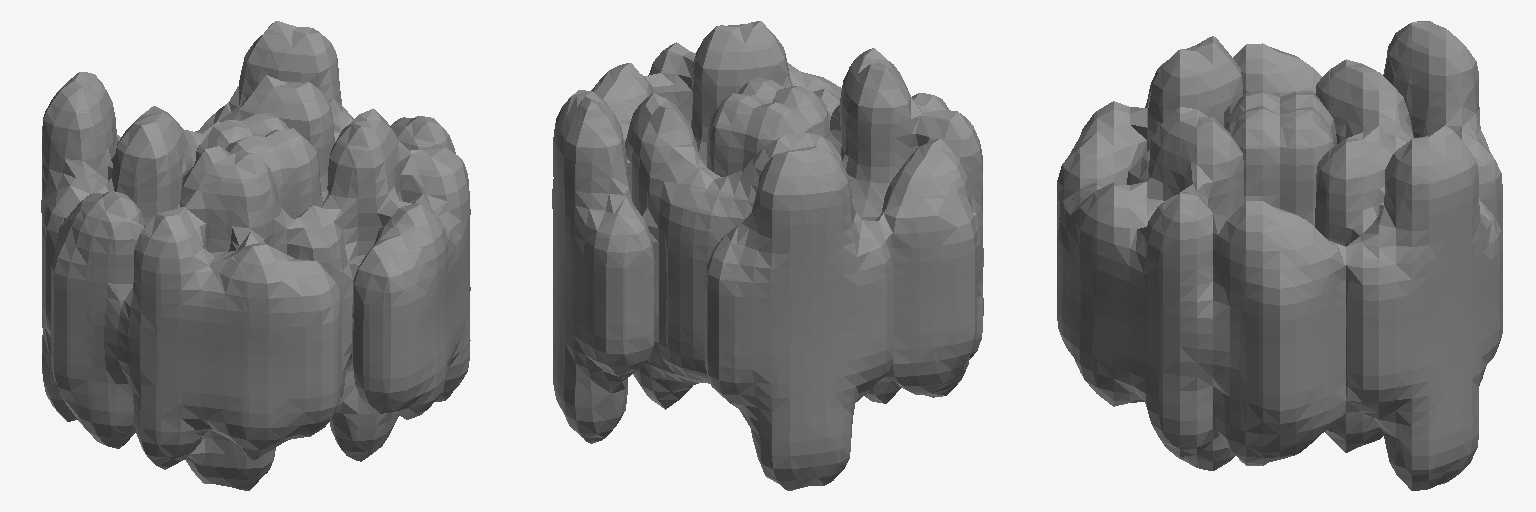
URDF robot description (cube.urdf):
<?xml version="0.0" ?> 
<robot name="cube.urdf"> 
<link name="legobrick"> 
<contact> 
<lateral_friction value="5.0"/> 
<rolling_friction value="0.0"/> 
<contact_cfm value="0.0"/> 
<contact_erp value="1.0"/> 
</contact> 
<inertial> 
<origin rpy="0 0 0" xyz="0.0 0.0 0.0"/> 
<mass value=".01"/> 
<inertia ixx="1" ixy="0" ixz="0" iyy="1" iyz="0" izz="1"/> 
</inertial> 
<visual> 
<origin rpy="1.570796 0 0" xyz="-0.03515109745856687 0.03402325564560461 -0.03524571429335926"/> 
<geometry> 
<mesh filename="J24_3.obj" scale="0.0006191737524490745 0.0006191737524490745 0.0006191737524490745"/> 
</geometry> 
<material name="yellow"> 
<color rgba="0.6 0.6 0.6 1"/> 
</material> 
</visual> 
<collision> 
<origin rpy="1.570796 0 0" xyz="-0.03515109745856687 0.03402325564560461 -0.03524571429335926"/> 
<geometry> 
<mesh filename="J24_3.obj" scale="0.0006191737524490745 0.0006191737524490745 0.0006191737524490745"/> 
</geometry> 
</collision> 
</link> 
</robot>

--- Facts derived from the render (not from the file) ---
The picture shows the robot from 3 angles, left to right: view 1: azimuth 30°, elevation 25°; view 2: azimuth 150°, elevation 25°; view 3: azimuth 270°, elevation 25°; orthographic projection.
Model cube.urdf with 1 links and 0 joints (none), rooted at legobrick, posed all joints at 0.
Links seen in each view (by area): view 1: legobrick; view 2: legobrick; view 3: legobrick.
Link boxes in pixels (left/top/right/bottom): legobrick: left=41, top=21, right=470, bottom=490; legobrick: left=552, top=21, right=983, bottom=490; legobrick: left=1057, top=21, right=1502, bottom=490.
Bounding box of the posed robot: 0.0619 × 0.056 × 0.0495 m (x, y, z).
1 mesh visuals loaded from 1 distinct referenced files (1 OBJ).
